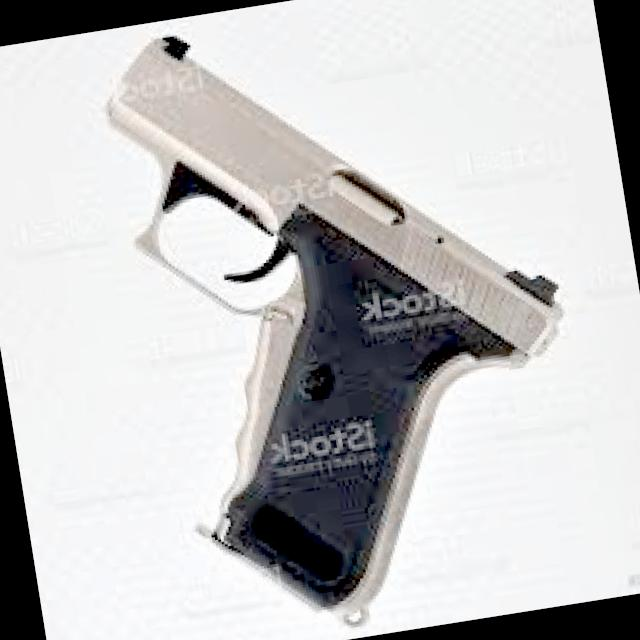semi automatic: (39, 0, 636, 640)
